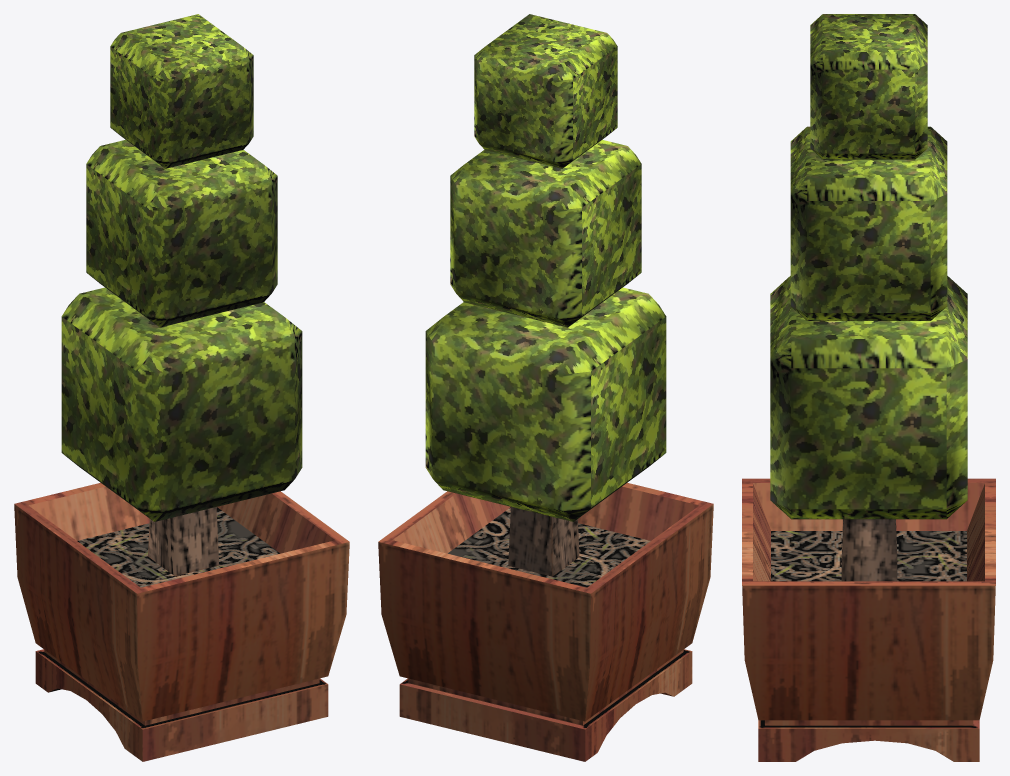
File: PottedPlanter2.fbx
3 views of the same model, side by side, from view 1: azimuth 30°, elevation 25°; view 2: azimuth 150°, elevation 25°; view 3: azimuth 270°, elevation 25° (orthographic). The views are drawn at different scales.
Visible parts, largest first — view 1: PottedPlanter2:pCube19; view 2: PottedPlanter2:pCube19; view 3: PottedPlanter2:pCube19.
Boxes of the visible parts, left/top/right/bottom form: PottedPlanter2:pCube19: left=14, top=14, right=349, bottom=761; PottedPlanter2:pCube19: left=378, top=14, right=713, bottom=761; PottedPlanter2:pCube19: left=742, top=14, right=995, bottom=761.
Size of the model in its own units: 133 by 394 by 133.
